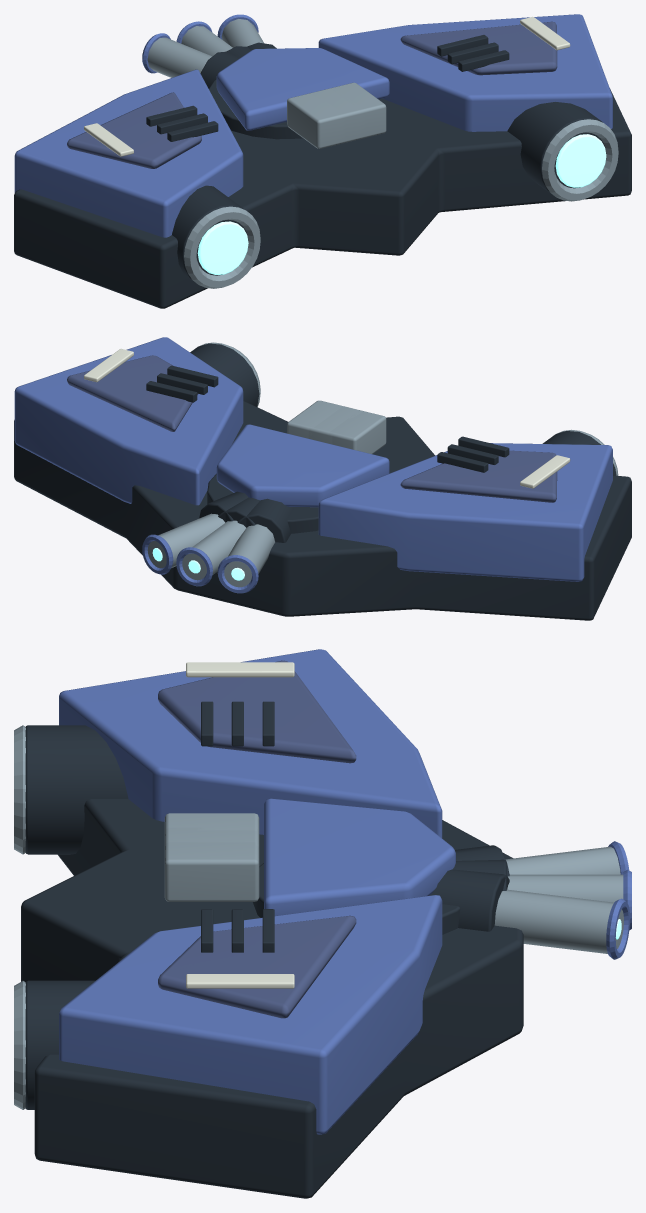
File: ufofast_tridente.glb
The picture shows the model from 3 angles, top to bottom: view 1: azimuth 30°, elevation 25°; view 2: azimuth 150°, elevation 25°; view 3: azimuth 270°, elevation 25°; orthographic projection. The views are drawn at different scales.
Parts seen in each view (by area): view 1: ufofast | Graphite chassis, ufofast | TRIDENTE | armor, ufofast | Titanium, ufofast | TRIDENTE | secondary, ufofast | TRIDENTE | energy, ufofast | Ivory identification; view 2: ufofast | TRIDENTE | armor, ufofast | Graphite chassis, ufofast | TRIDENTE | secondary, ufofast | Titanium, ufofast | Ivory identification; view 3: ufofast | TRIDENTE | armor, ufofast | Graphite chassis, ufofast | Titanium, ufofast | TRIDENTE | secondary, ufofast | Ivory identification.
Part boxes in pixels (box(x1,y1,x2,y2)): ufofast | Graphite chassis: box(14, 35, 631, 308); ufofast | TRIDENTE | armor: box(14, 14, 612, 237); ufofast | Titanium: box(147, 19, 618, 288); ufofast | TRIDENTE | secondary: box(67, 21, 557, 168); ufofast | TRIDENTE | energy: box(197, 134, 606, 274); ufofast | Ivory identification: box(84, 17, 570, 156); ufofast | TRIDENTE | armor: box(14, 337, 612, 593); ufofast | Graphite chassis: box(14, 343, 631, 620); ufofast | TRIDENTE | secondary: box(67, 355, 557, 502); ufofast | Titanium: box(147, 342, 618, 587); ufofast | Ivory identification: box(84, 348, 570, 488); ufofast | TRIDENTE | armor: box(59, 649, 631, 1134); ufofast | Graphite chassis: box(21, 701, 523, 1198); ufofast | Titanium: box(14, 725, 623, 1109); ufofast | TRIDENTE | secondary: box(158, 660, 356, 1018); ufofast | Ivory identification: box(186, 662, 294, 988).
Bounding box in the file's own units: 2.07 × 0.404 × 1.31.
